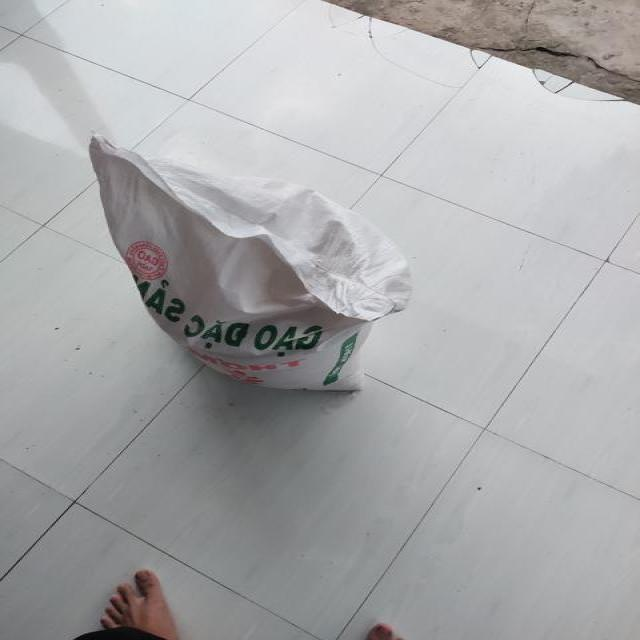gunny_bag: (88, 136, 412, 390)
